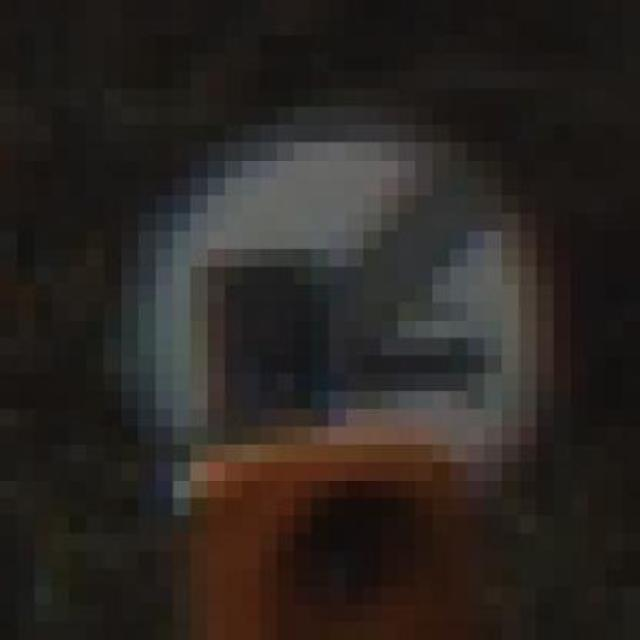Overtaking by trucks is prohibited: (86, 89, 588, 569)
